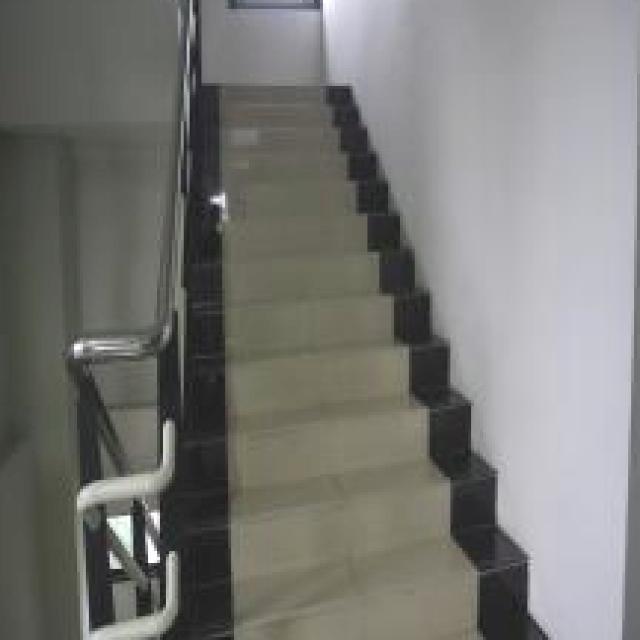upstair: (221, 63, 461, 640)
